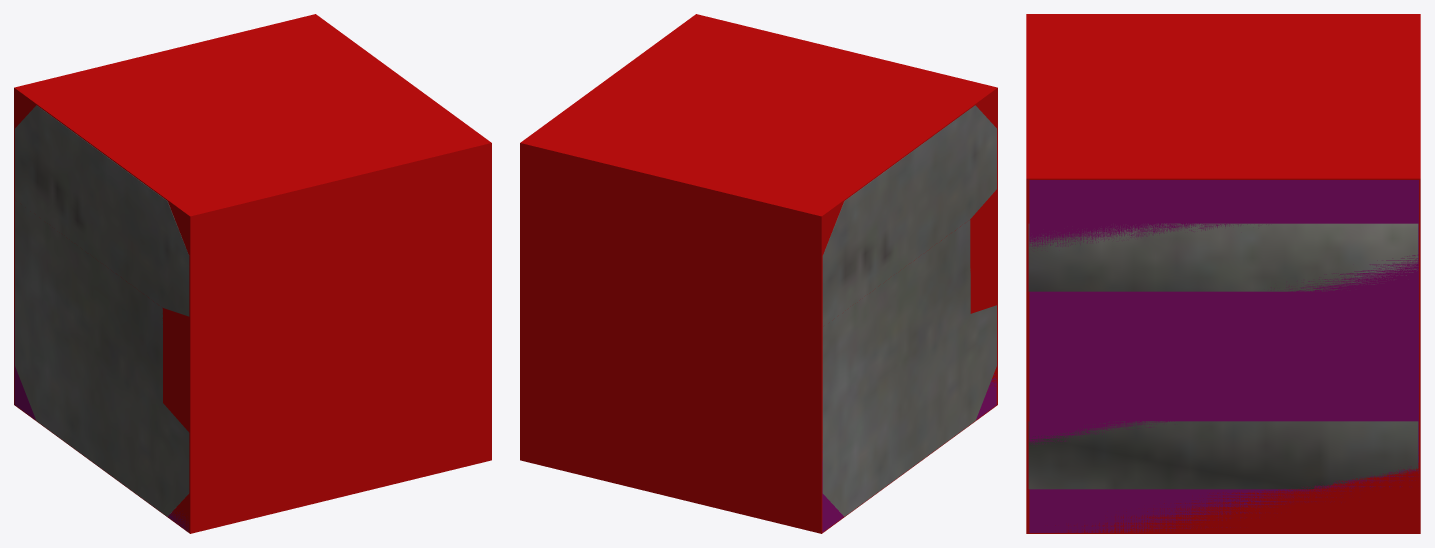
The model's file is SciFi_wall_trim_corner.DAE.
The picture shows the model from 3 angles, left to right: view 1: azimuth 30°, elevation 25°; view 2: azimuth 150°, elevation 25°; view 3: azimuth 270°, elevation 25°; orthographic projection. The views are drawn at different scales.
Parts seen in each view (by area): view 1: colbox-01, wall_trim_corner, bounds; view 2: colbox-01, wall_trim_corner, bounds; view 3: bounds, colbox-01, wall_trim_corner.
Part boxes in pixels (bbox=[...]): colbox-01: bbox=[14, 14, 491, 533]; wall_trim_corner: bbox=[15, 105, 189, 516]; bounds: bbox=[14, 309, 188, 531]; colbox-01: bbox=[520, 14, 997, 533]; wall_trim_corner: bbox=[822, 105, 996, 516]; bounds: bbox=[822, 374, 996, 532]; bounds: bbox=[1029, 180, 1418, 532]; colbox-01: bbox=[1026, 14, 1420, 533]; wall_trim_corner: bbox=[1028, 223, 1418, 489].
Bounding box in the file's own units: 60.05 × 60.68 × 60.34.
